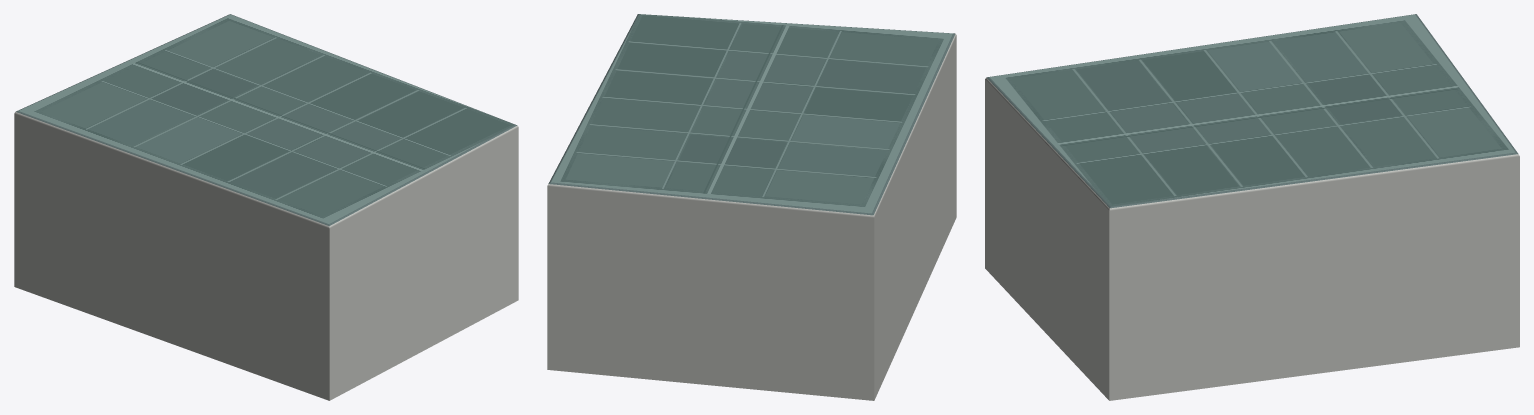
File: intact.glb
3 views of the same model, side by side, from view 1: azimuth 30°, elevation 25°; view 2: azimuth 150°, elevation 25°; view 3: azimuth 270°, elevation 25° (orthographic). The views are drawn at different scales.
Visible parts, largest first — view 1: SM_gh41_Intact_00; view 2: SM_gh41_Intact_00; view 3: SM_gh41_Intact_00.
Part boxes in pixels (x1,y1,x2,y2): SM_gh41_Intact_00: (14,14,518,400); SM_gh41_Intact_00: (547,14,956,400); SM_gh41_Intact_00: (985,14,1519,400).
Bounding box in the file's own units: 1.9 × 0.8798 × 2.2.
Materials: 3 (1 with a texture image).
